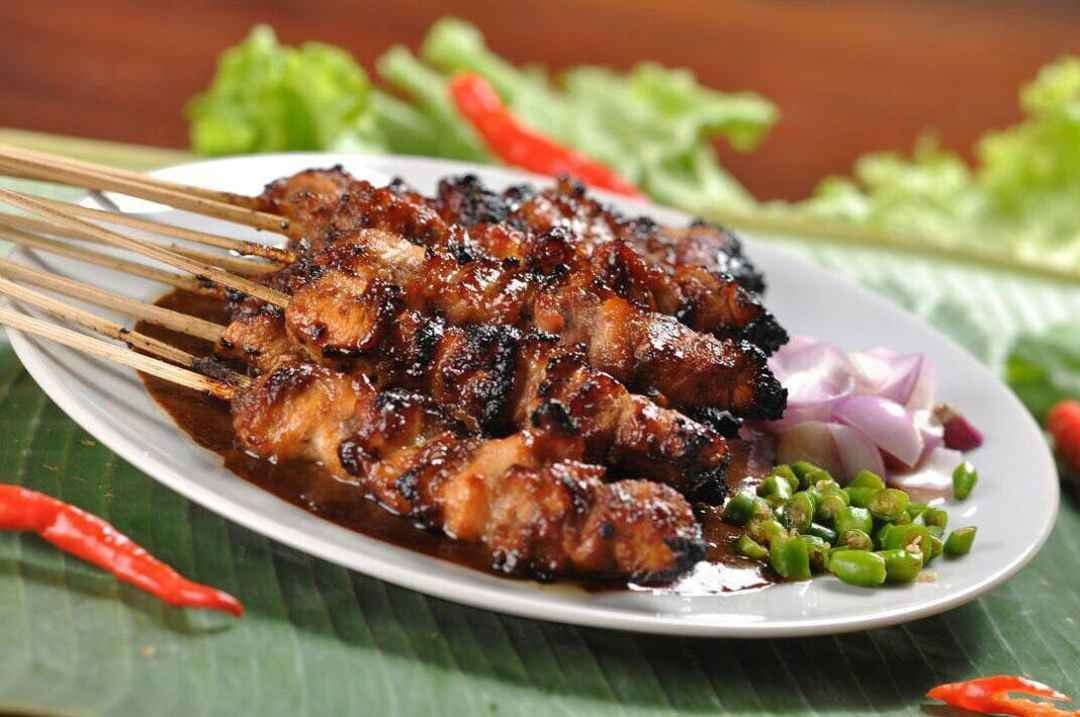sate: (160, 140, 794, 594)
